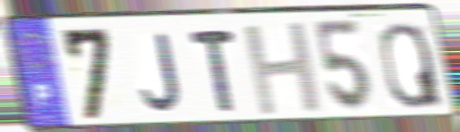5: (311, 18, 375, 117)
7: (58, 26, 115, 125)
H: (240, 19, 327, 119)
J: (138, 30, 185, 115)
Q: (377, 19, 446, 111)
T: (186, 26, 239, 115)
